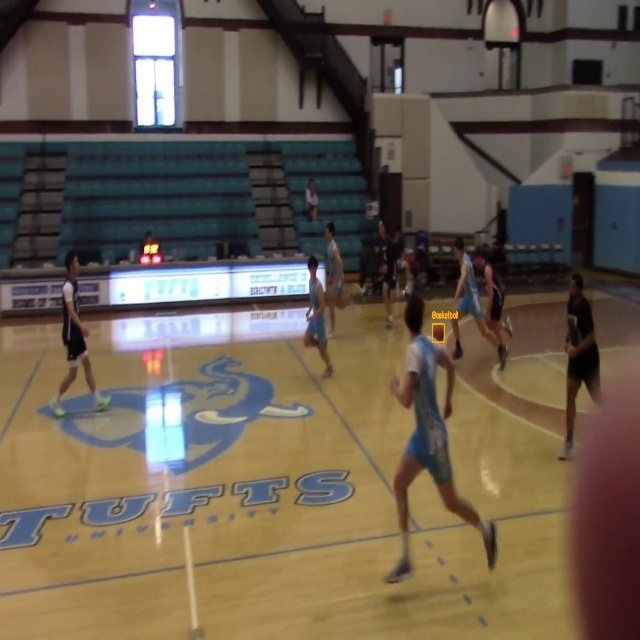Basketball: (432, 324, 444, 342)
